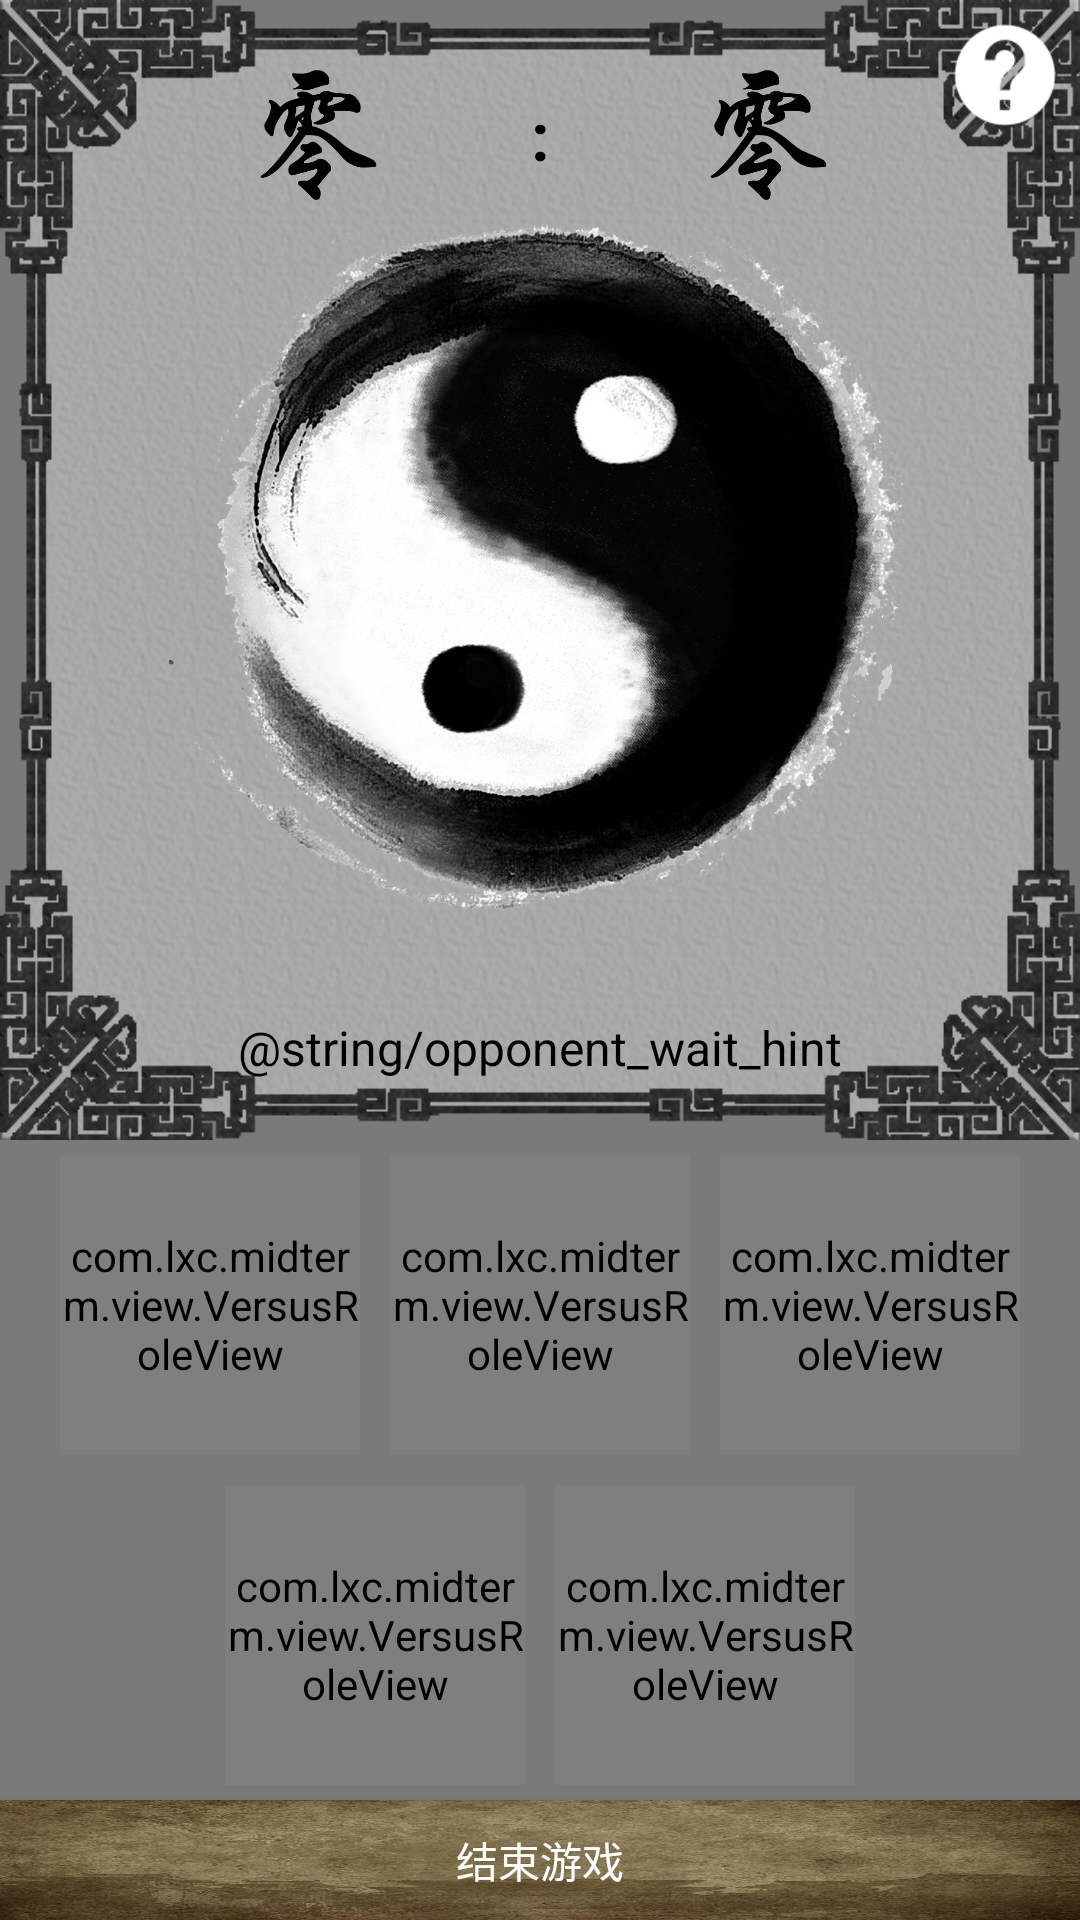

Point at icon controls on the screen. Image size 1080w x 1920h, points as (x=x, y=y).
help circle: (x=1005, y=75)
